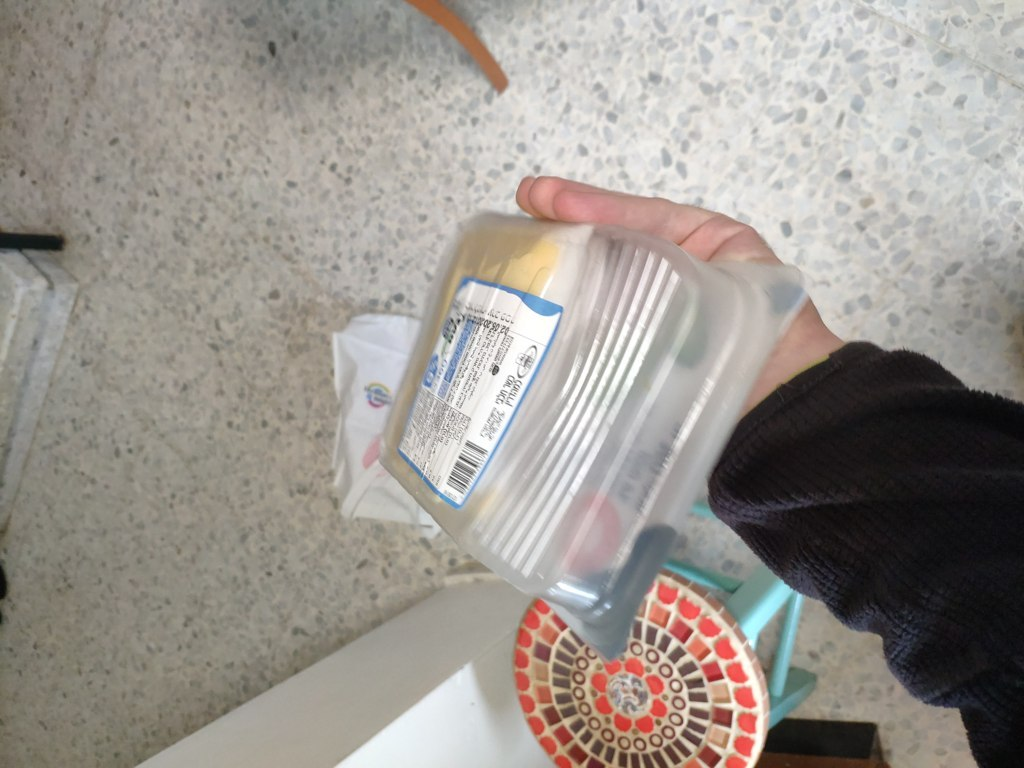Cheese: (295, 223, 804, 680)
